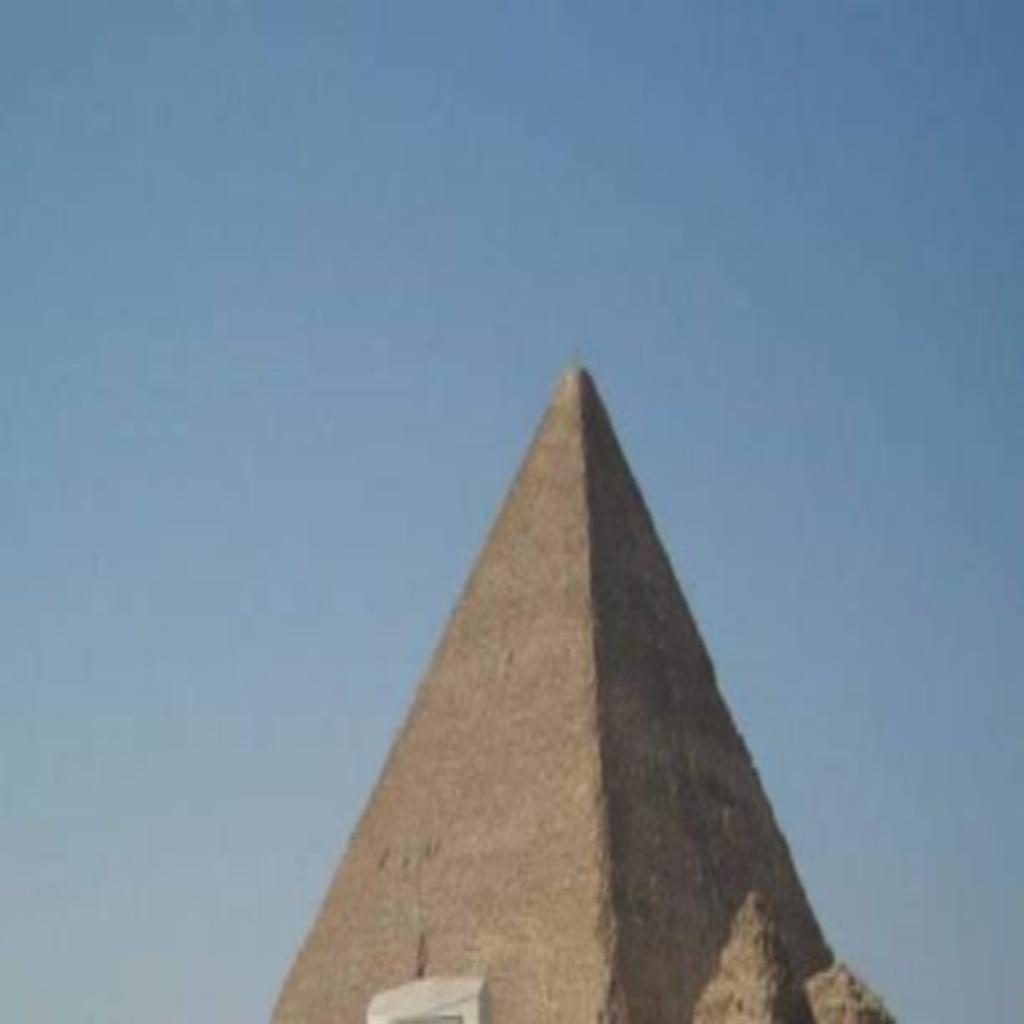Great Pyramids of Giza: (266, 354, 897, 1016)
